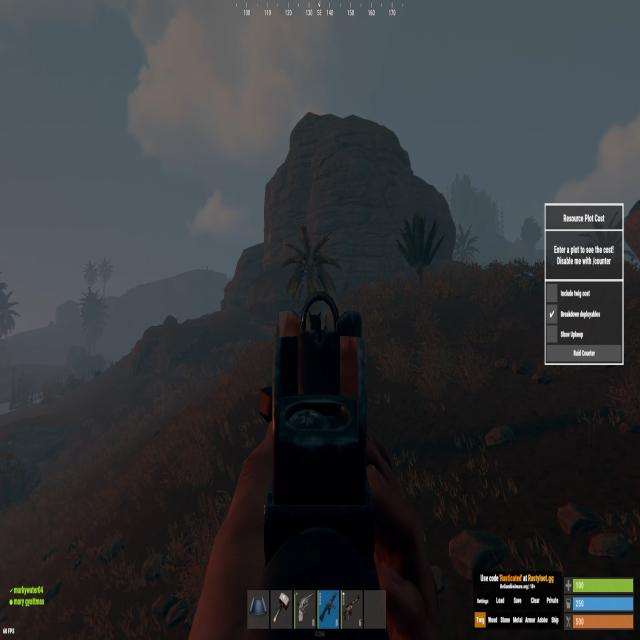Player: (307, 308, 328, 346)
